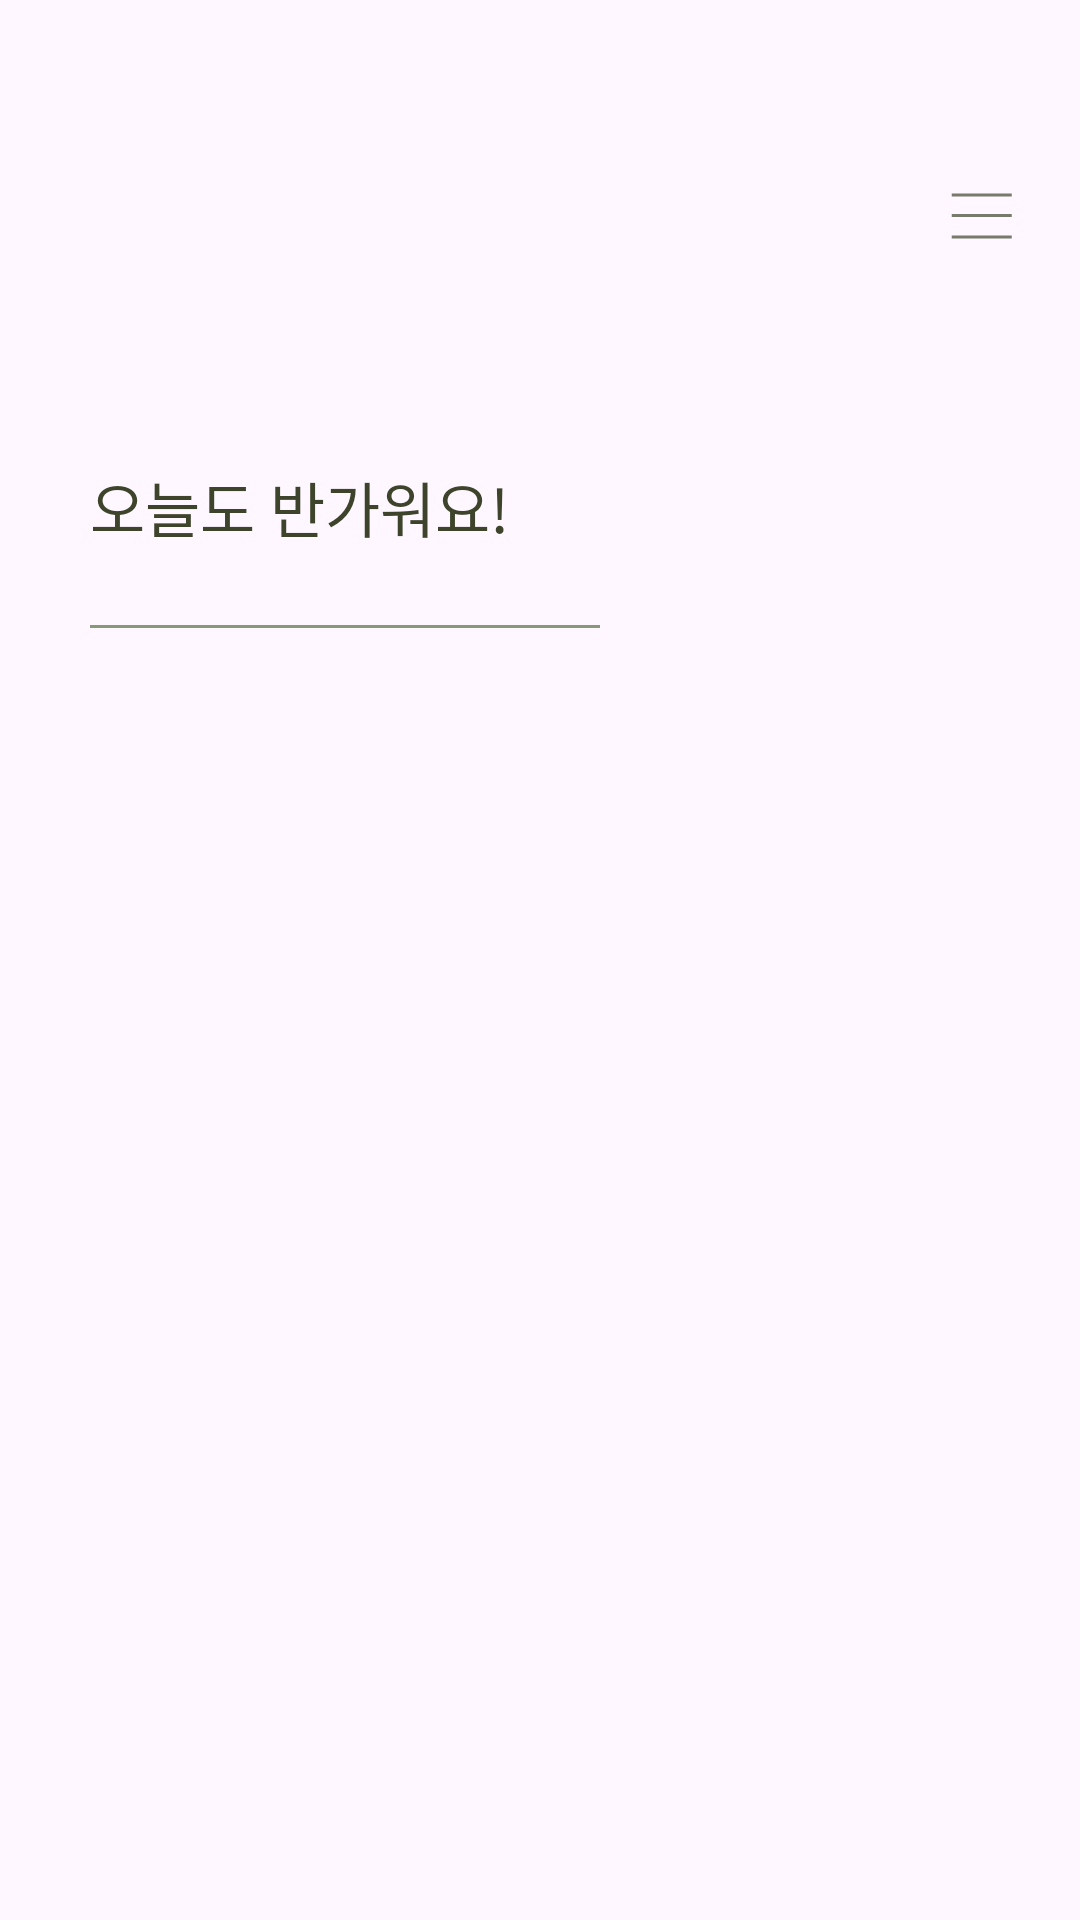

Point at icon controls on the screen. Image size 1080x1920, points as [x,y].
navigation: [981,216]
